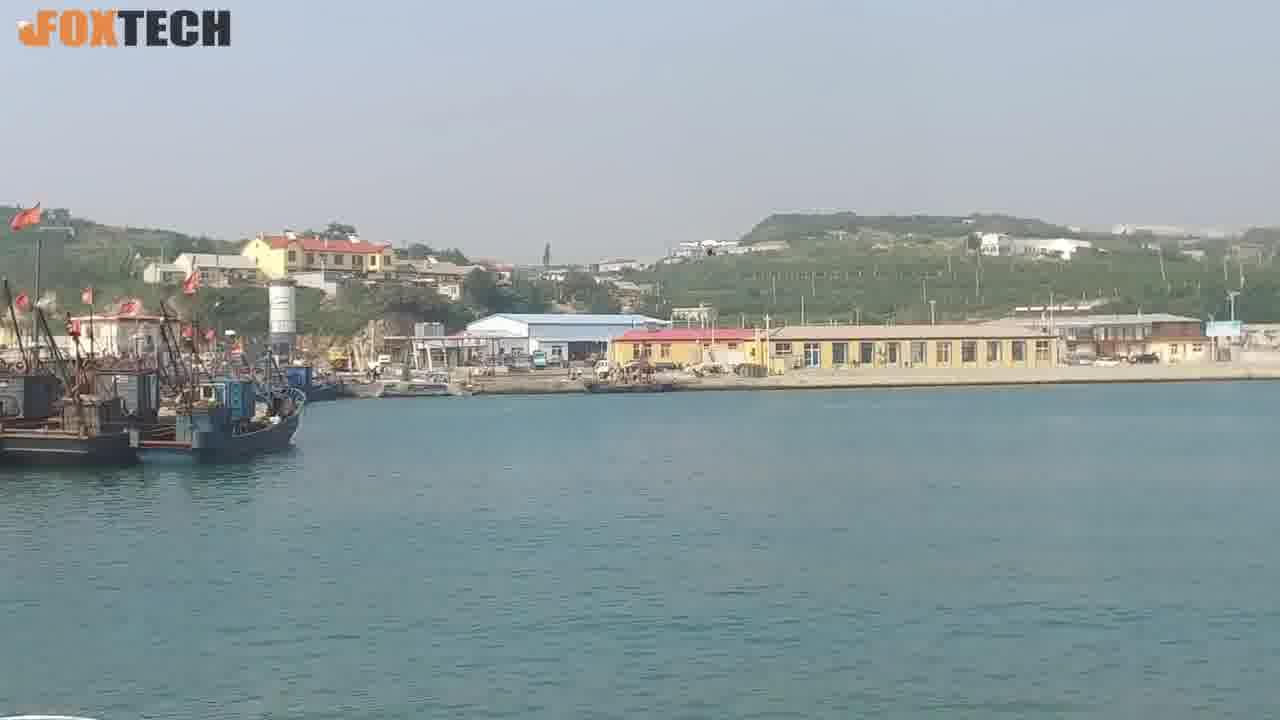drone: (681, 236, 742, 264)
